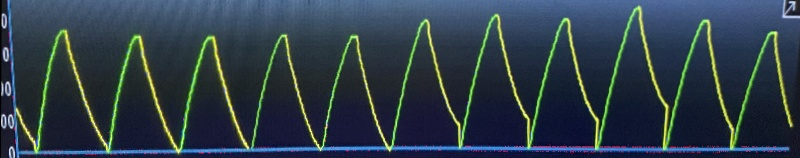leakage: (396, 2, 748, 155)
normal_volume: (19, 17, 383, 154)
